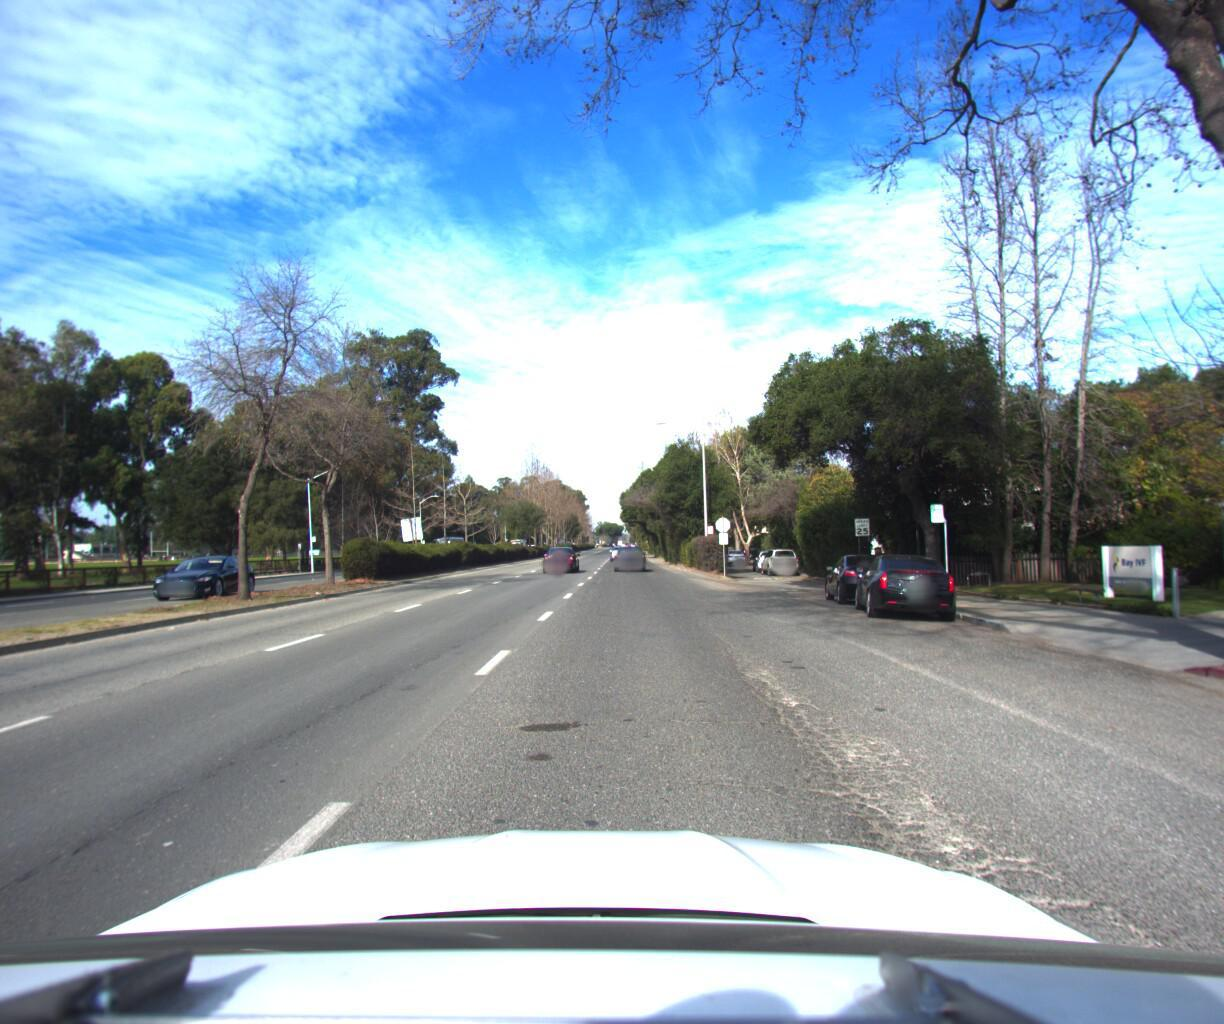car: (850, 542, 969, 621), (145, 545, 264, 597), (819, 541, 915, 601), (756, 538, 802, 568), (542, 537, 580, 566), (612, 535, 644, 563), (725, 540, 751, 557)
